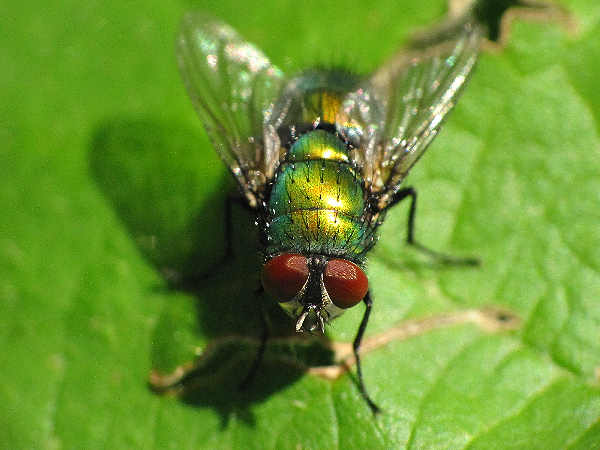fly: (157, 10, 490, 421)
